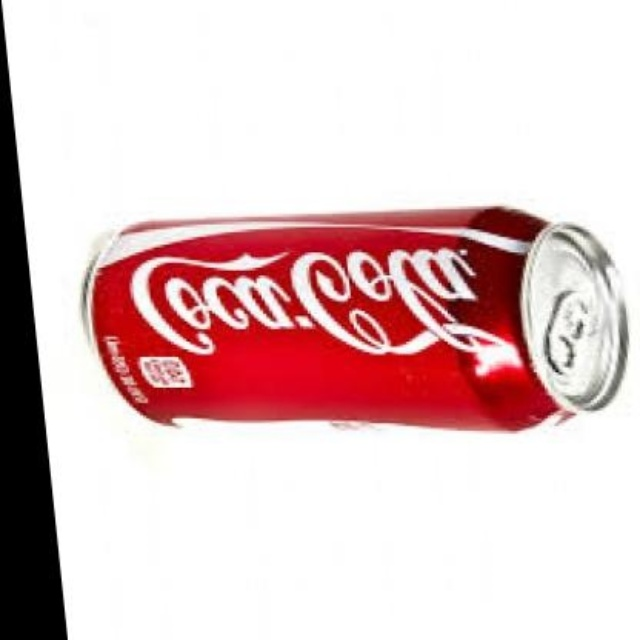trash: (85, 208, 626, 429)
